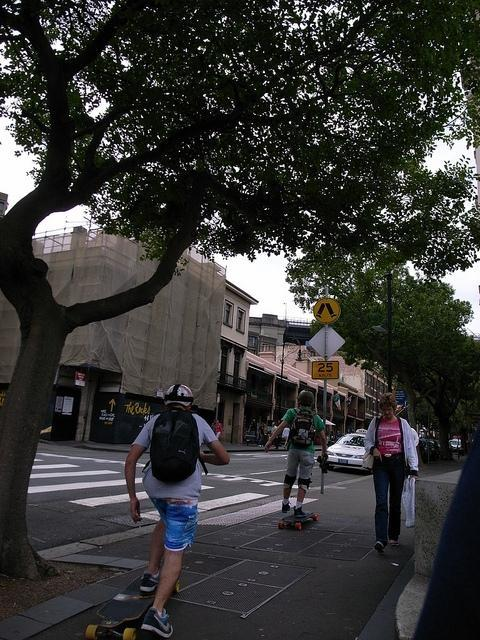car: (328, 429, 372, 471), (424, 441, 440, 460), (448, 438, 464, 453)
